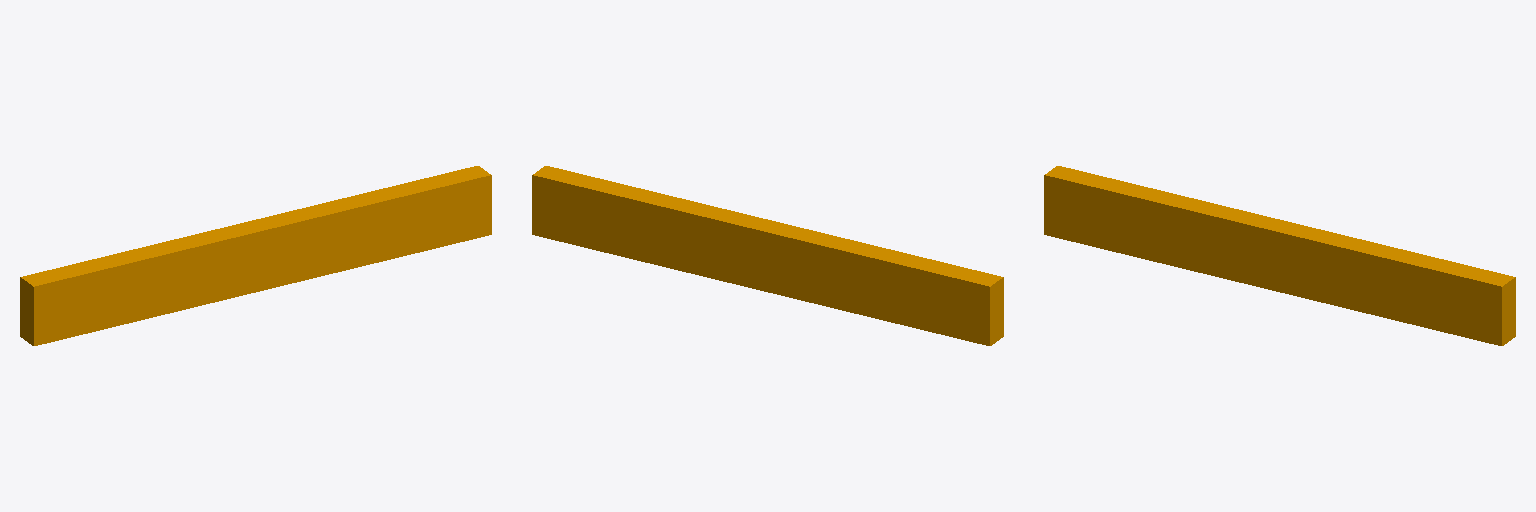
robot.urdf — left_support:
<?xml version="1.0" encoding="utf-8"?>

<robot name="left_support">
    <link name="support">
        <inertial>
            <mass value="2"/>
            <inertia
                    ixx="0.013"
                    ixy="0"
                    ixz="0"
                    iyy="0.013"
                    iyz="0"
                    izz="0.013"/>
        </inertial>
        <collision name="point_1">
            <origin rpy="0 0 0" xyz="-0.2 0.0 0.024"/>
            <geometry>
              <sphere radius="0.001"/>
            </geometry>
        </collision>
        <collision name="point_2">
            <origin rpy="0 0 0" xyz="-0.1 0.0 0.024"/>
            <geometry>
              <sphere radius="0.001"/>
            </geometry>
        </collision>
        <visual>
            <origin rpy="0 0 0" xyz="0 0 0.0"/>
            <geometry>
                <box size="0.4 0.02 0.05"/>
            </geometry>
        </visual>
    </link>
</robot>

--- Render facts (derived) ---
Views: 3 orthographic renders of the robot side by side, from view 1: azimuth 30°, elevation 25°; view 2: azimuth 150°, elevation 25°; view 3: azimuth 330°, elevation 25°.
Robot: left_support — 1 links, 0 joints (none); root link support; default pose: every joint at zero.
Links seen in each view (by area): view 1: support; view 2: support; view 3: support.
Boxes of the visible links, x1=… form: support: x1=20, y1=166, x2=491, y2=345; support: x1=532, y1=166, x2=1003, y2=345; support: x1=1044, y1=166, x2=1515, y2=345.
Size in the robot's own frame: 0.4 by 0.02 by 0.05 metres.
Geometry: primitives only (box / cylinder / sphere), no mesh files.
